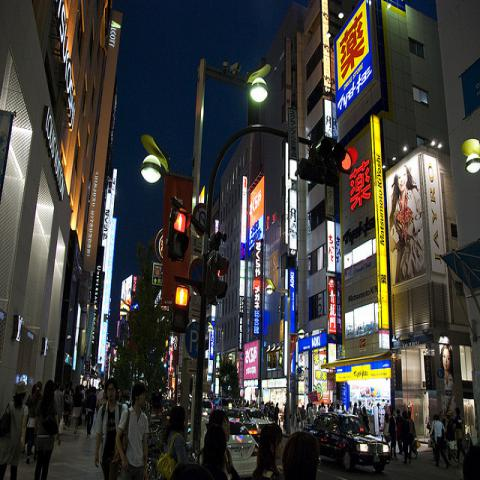car: (302, 411, 390, 472), (227, 417, 258, 477), (227, 408, 259, 438), (250, 408, 269, 432), (202, 398, 214, 415)
